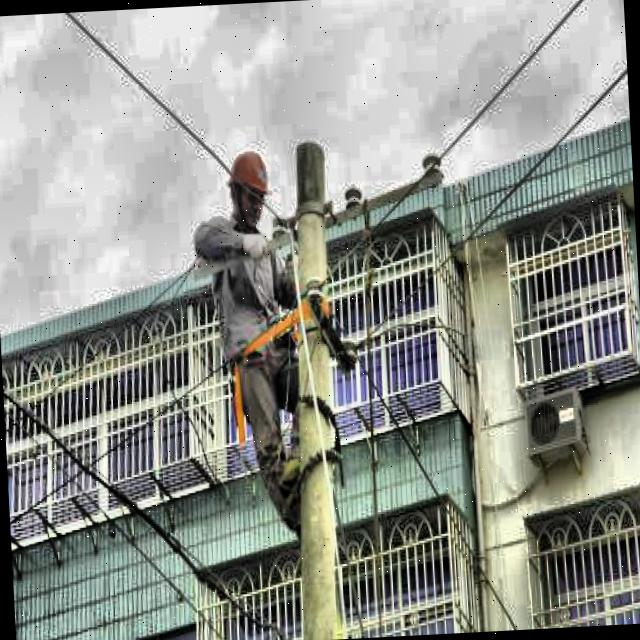helmet: (223, 144, 276, 233)
